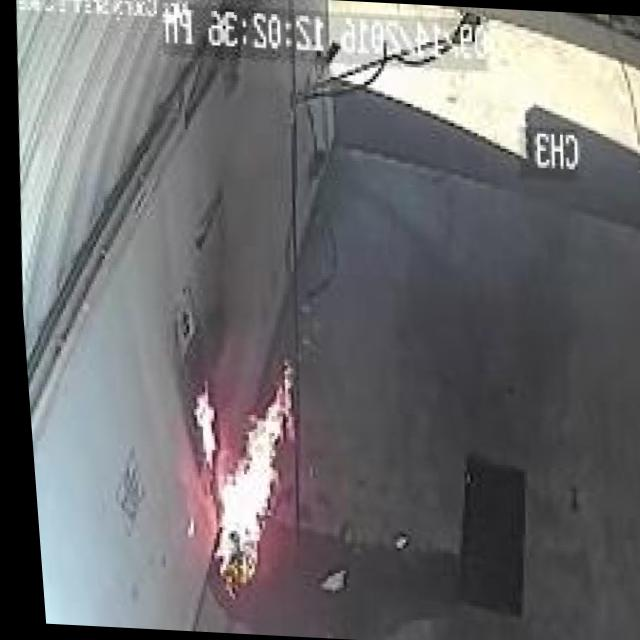fire: (160, 346, 309, 592)
